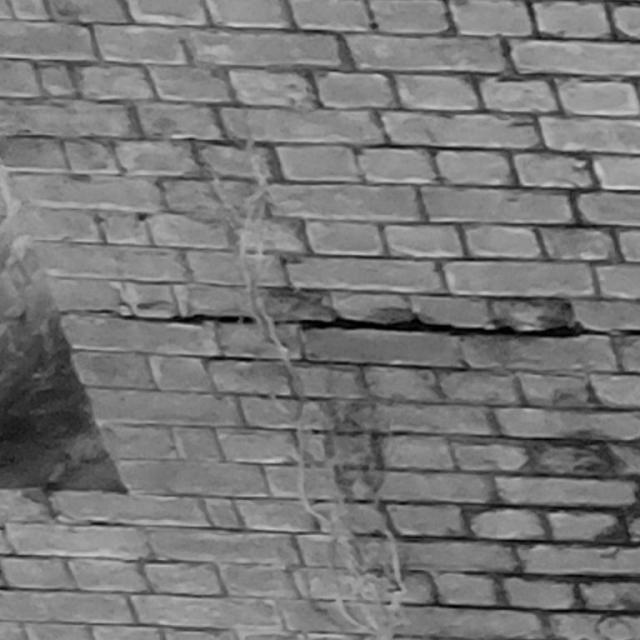crack: (87, 310, 608, 338)
